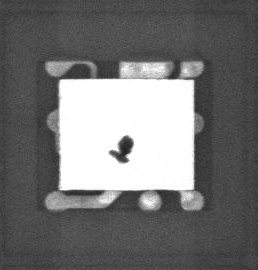DIE_INK: (103, 141, 128, 172)
